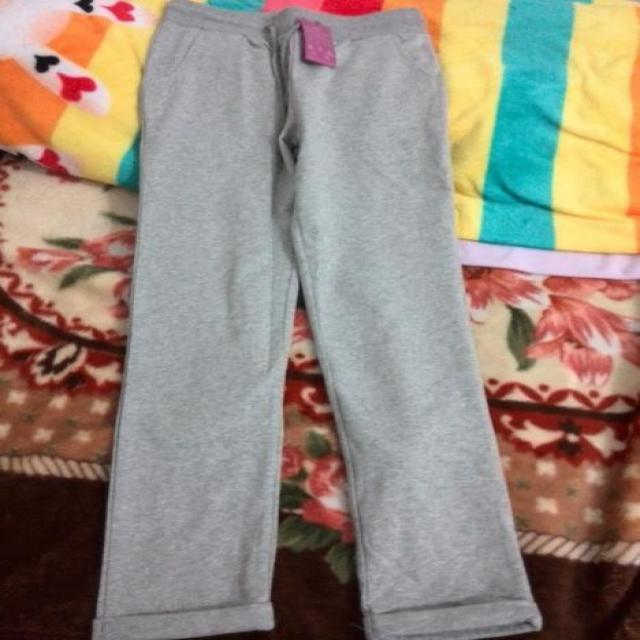trousers: (94, 2, 542, 639)
